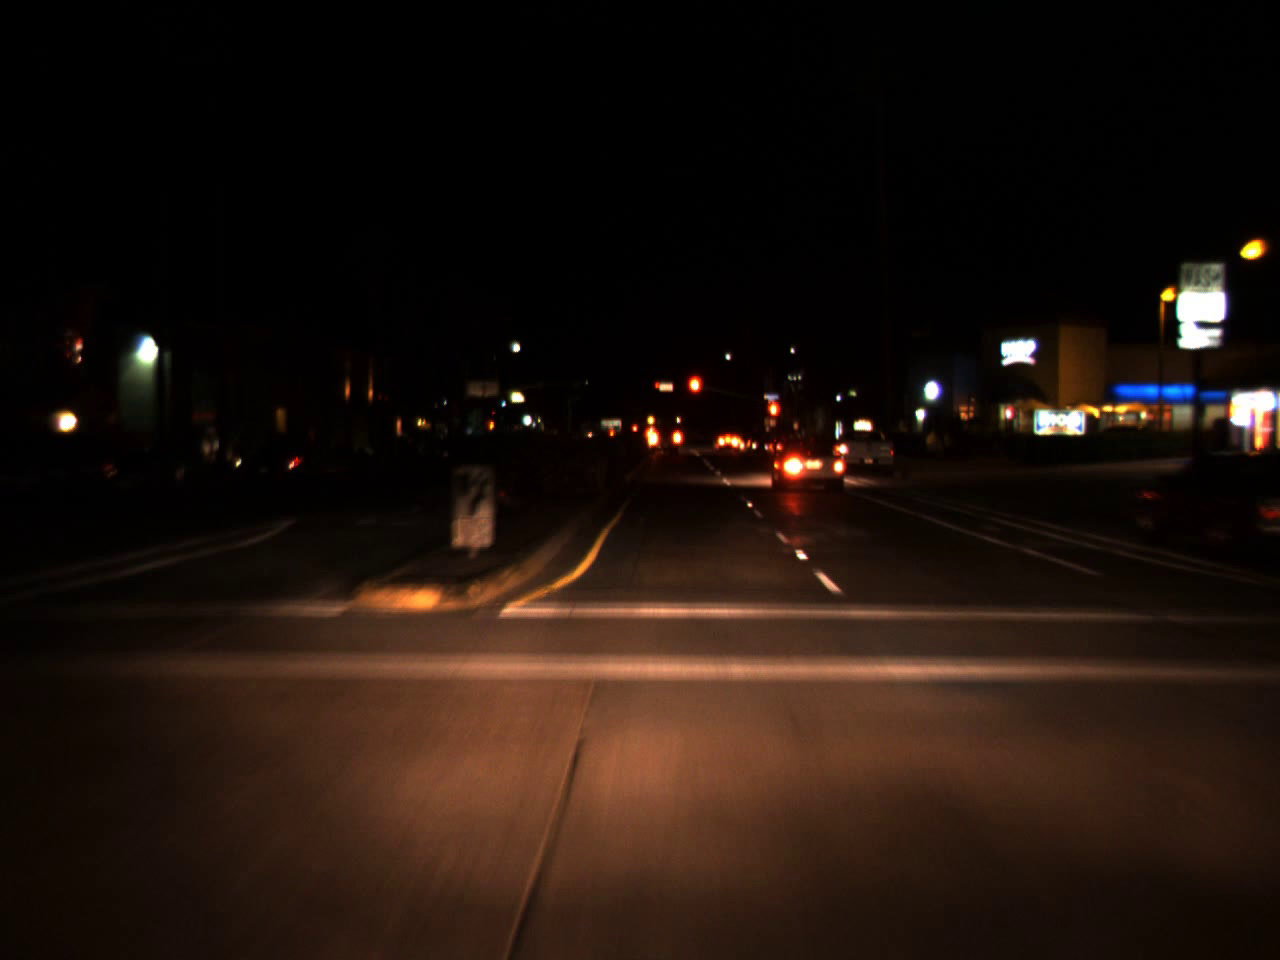stop: (686, 372, 704, 415), (765, 398, 783, 435), (655, 381, 661, 394)
